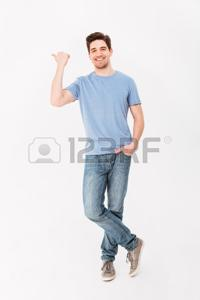person: (62, 20, 143, 122)
